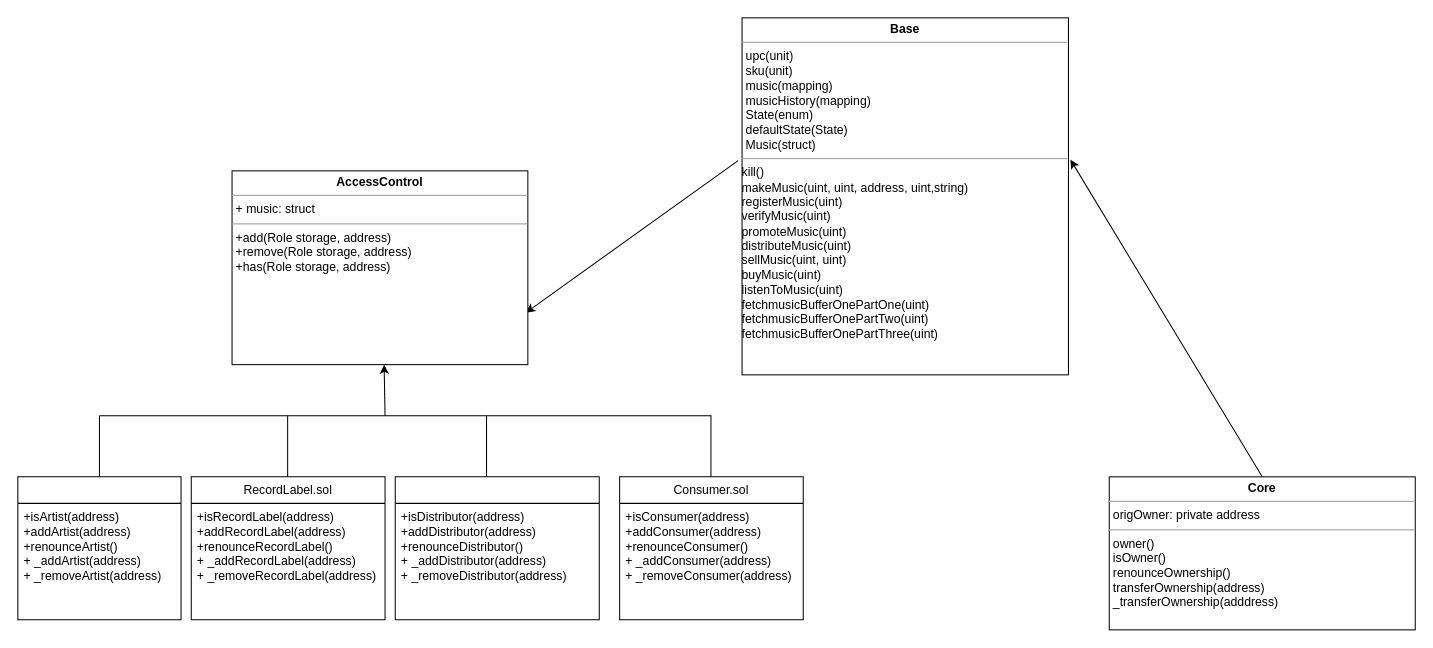
This 1433x648 diagram has some shape labels left out. The shapes that lost their labels are listed below. From the top down, each one's box as (x1, y1, x2, y2) in pixels, then its label:
(17, 476, 181, 620): Artist.sol
(394, 476, 599, 620): Distributor.sol
